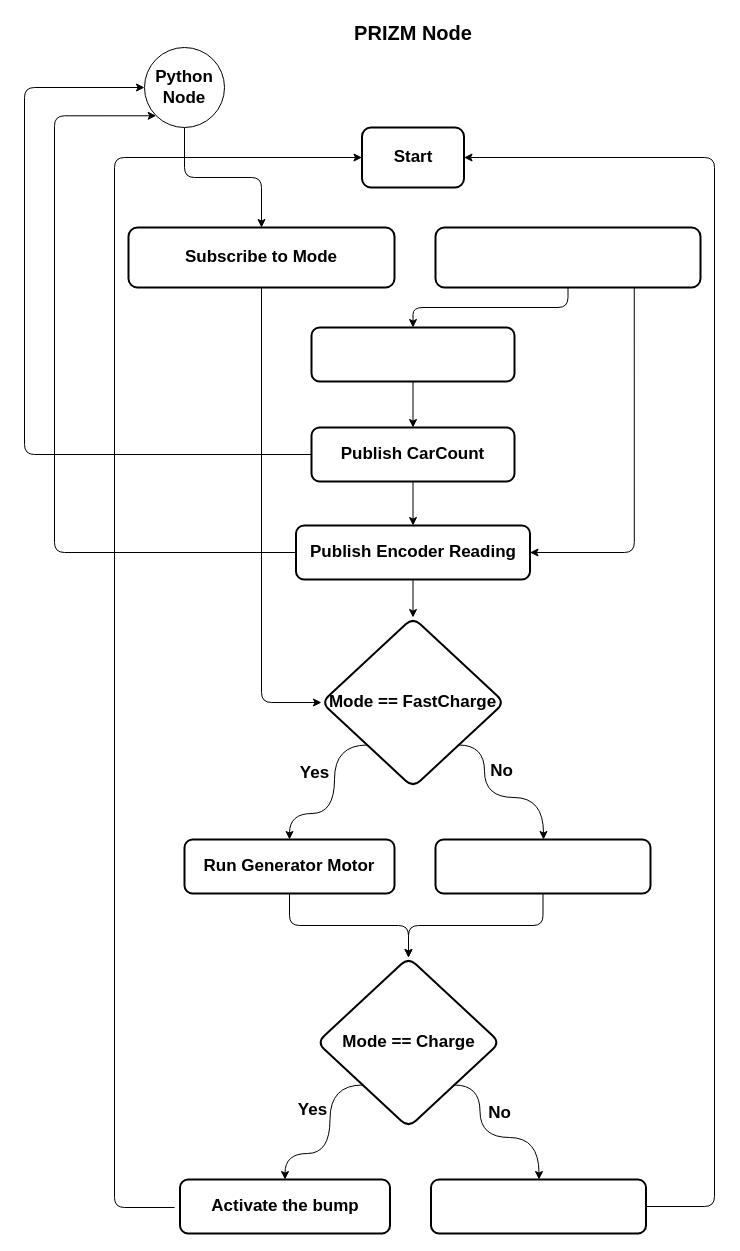
This 740x1251 diagram has some shape labels left out. The shapes that lost their labels are listed below. From the top down, each one's centre as x and y in pixels, then its label:
At [567,257]: "Read Sensor Inputs: Car Detection and Encoder".
At [412,354]: "Calculate CarCount".
At [542,866]: "Stop Generator Motor".
At [538,1206]: "Flat the bump".
